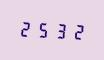five: (34, 19, 49, 39)
three: (50, 19, 65, 40)
two: (18, 18, 33, 39), (66, 20, 81, 41)
